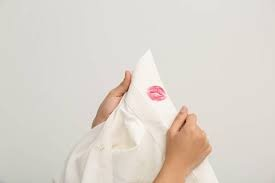lipstick: (143, 84, 166, 101)
